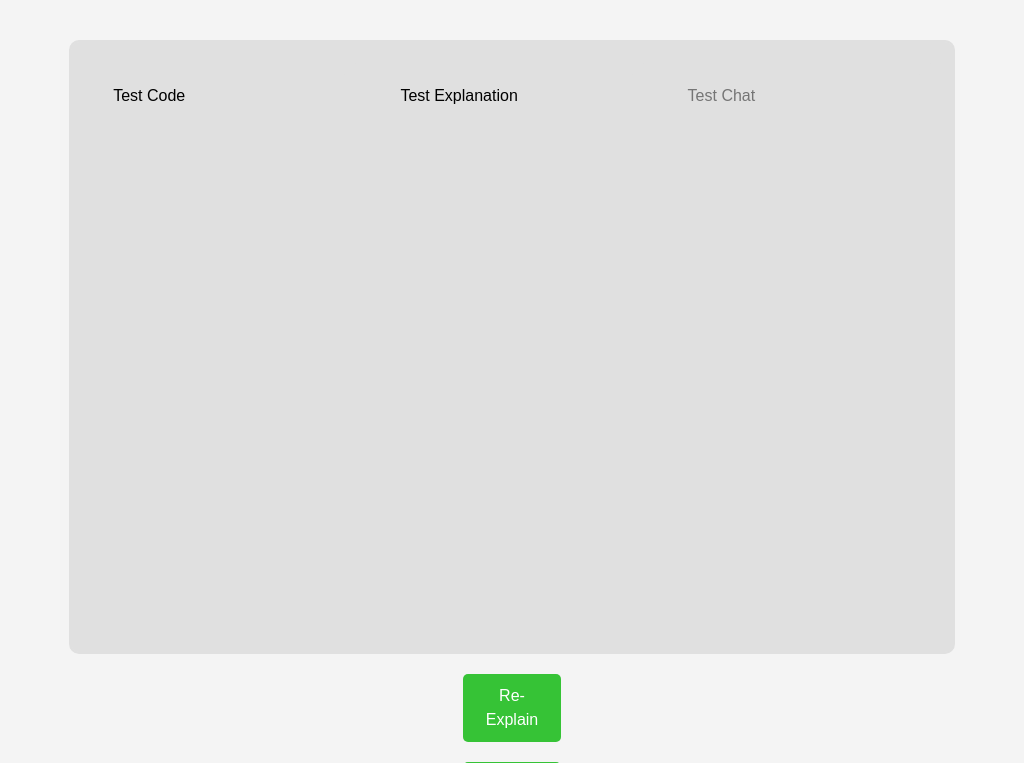
Test case: Feedback Component › handles form submission with empty code input
Clear the 1st text box at (225, 347), box [102, 73, 347, 621]
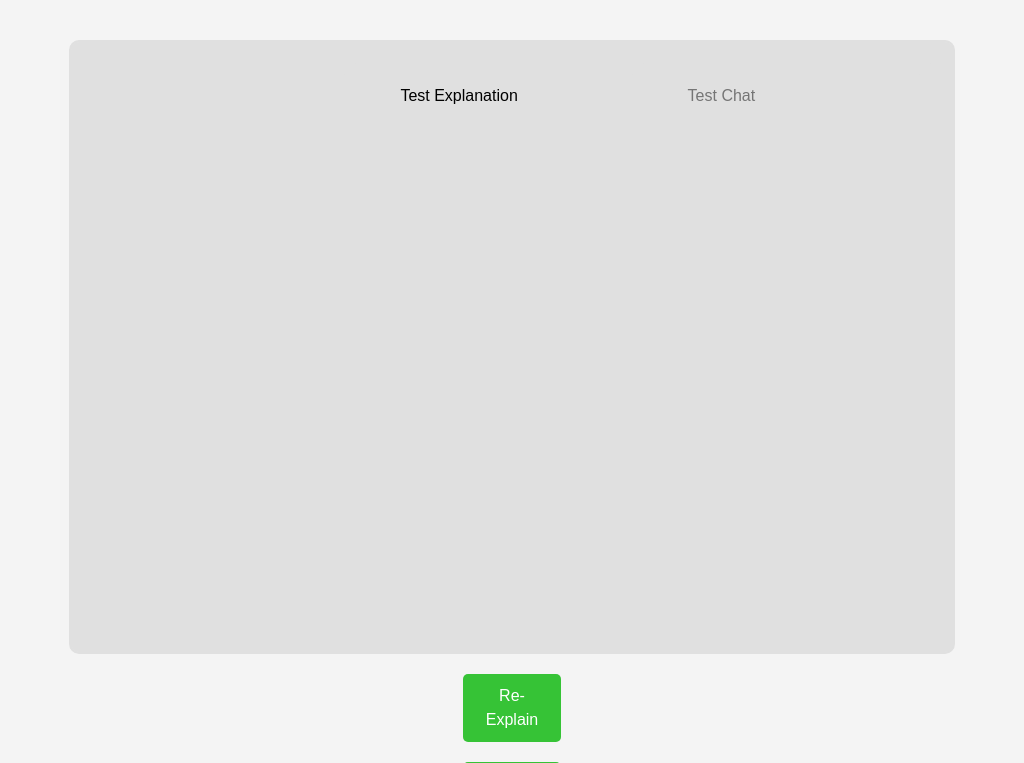
Submit the form named "feedback form"
(page scrolled)
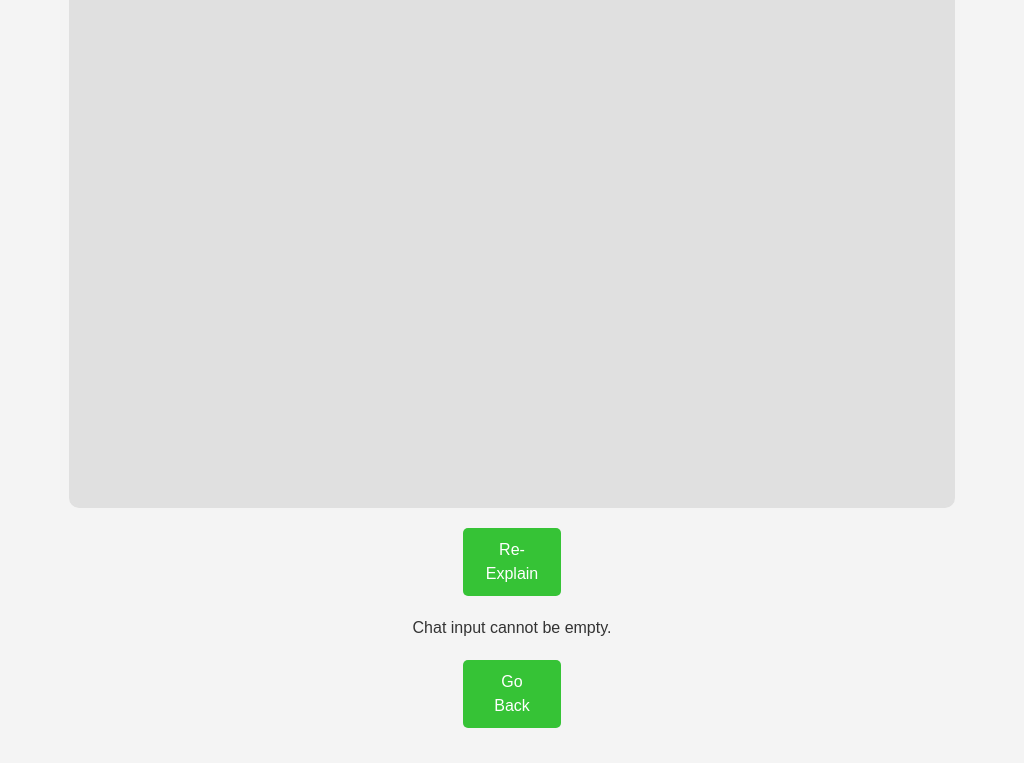
Check: the text "Chat input cannot be empty." is shown, box [412, 619, 611, 636]
